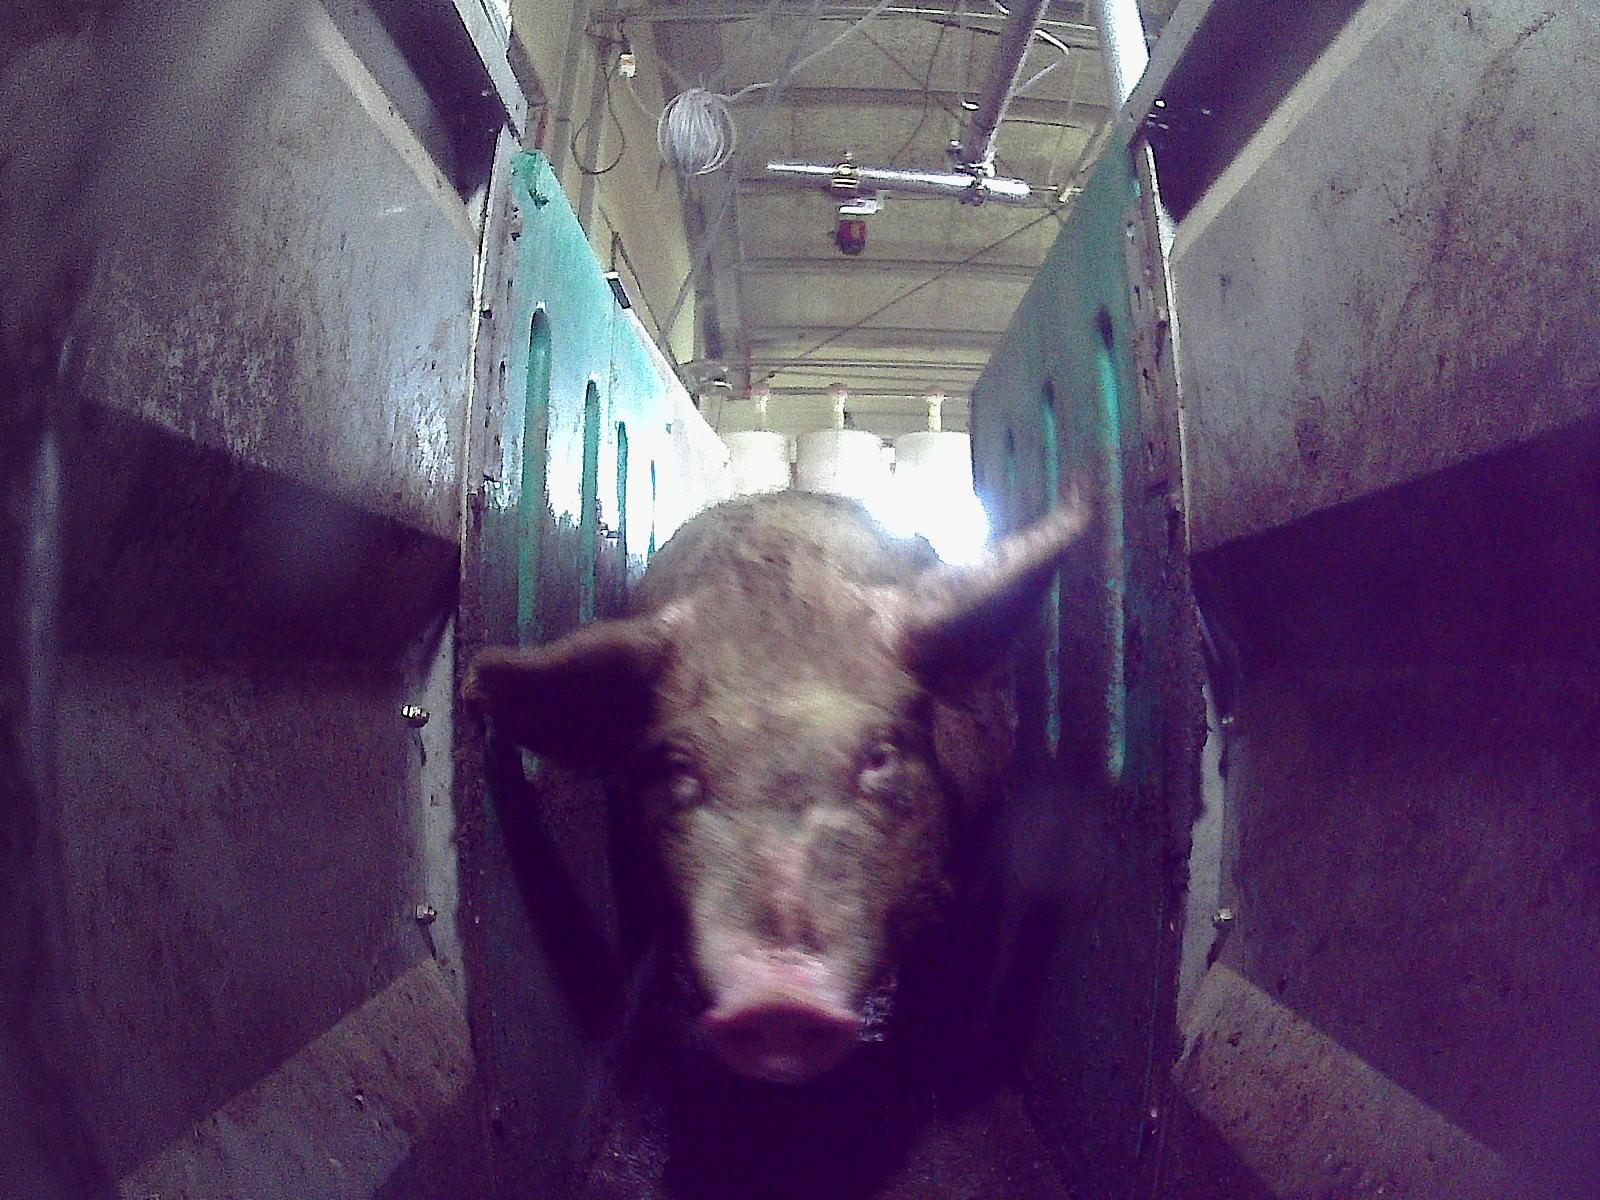Face: (627, 556, 962, 1090)
